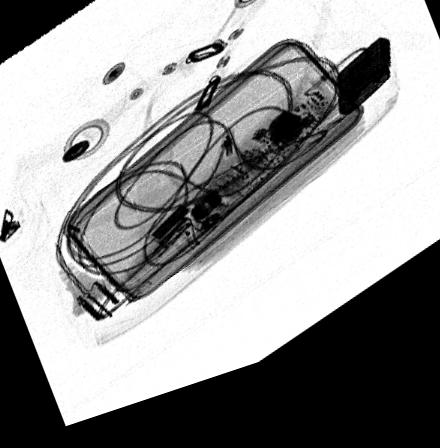Lighter: (334, 60, 391, 138)
